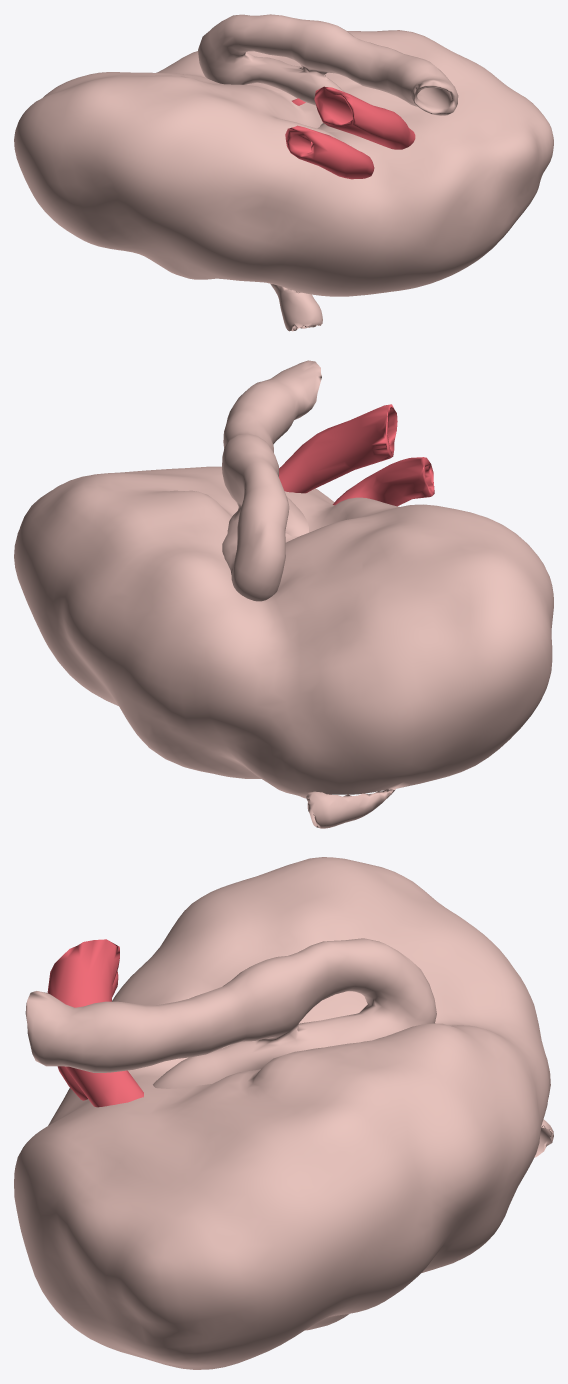
Rendered from nih_m_lymph_node-80.glb.
3 views of the same model, one above another, from view 1: azimuth 30°, elevation 25°; view 2: azimuth 150°, elevation 25°; view 3: azimuth 270°, elevation 25° (orthographic). The views are drawn at different scales.
Visible parts, largest first — view 1: Yao_capsule_of_lymph_node, Yao_efferent_lymph_node, Yao_blood_vasculature, Yao_afferent_lymphatic_vessel; view 2: Yao_capsule_of_lymph_node, Yao_efferent_lymph_node, Yao_blood_vasculature, Yao_afferent_lymphatic_vessel; view 3: Yao_capsule_of_lymph_node, Yao_efferent_lymph_node, Yao_blood_vasculature.
Part boxes in pixels (left/top/right/bottom): Yao_capsule_of_lymph_node: left=14, top=30, right=553, bottom=296; Yao_efferent_lymph_node: left=198, top=14, right=458, bottom=132; Yao_blood_vasculature: left=285, top=86, right=415, bottom=179; Yao_afferent_lymphatic_vessel: left=270, top=283, right=322, bottom=331; Yao_capsule_of_lymph_node: left=14, top=466, right=553, bottom=798; Yao_efferent_lymph_node: left=222, top=360, right=321, bottom=601; Yao_blood_vasculature: left=279, top=404, right=434, bottom=506; Yao_afferent_lymphatic_vessel: left=306, top=788, right=395, bottom=828; Yao_capsule_of_lymph_node: left=14, top=857, right=550, bottom=1369; Yao_efferent_lymph_node: left=25, top=938, right=436, bottom=1088; Yao_blood_vasculature: left=47, top=939, right=143, bottom=1107.
Bounding box in the file's own units: 0.0183 × 0.0107 × 0.013.
